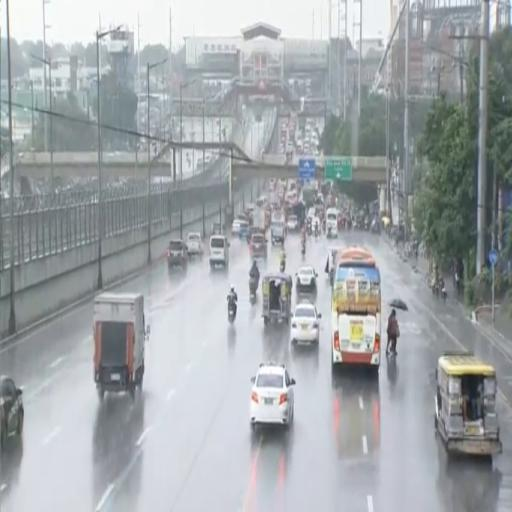bus: (332, 248, 381, 370)
car: (250, 362, 295, 429), (0, 376, 23, 451), (291, 302, 321, 345), (166, 239, 188, 270), (210, 235, 229, 269), (296, 266, 317, 294), (250, 233, 267, 259), (187, 232, 203, 255), (247, 227, 262, 245), (287, 215, 299, 231), (232, 219, 241, 235), (212, 222, 223, 234)
motorcycle: (249, 278, 258, 303), (228, 300, 237, 324), (431, 282, 440, 298), (441, 286, 447, 302), (326, 226, 332, 238), (307, 223, 312, 235), (301, 242, 305, 257), (280, 261, 285, 273), (315, 224, 318, 237)
truck: (93, 293, 149, 399), (254, 206, 266, 232)
